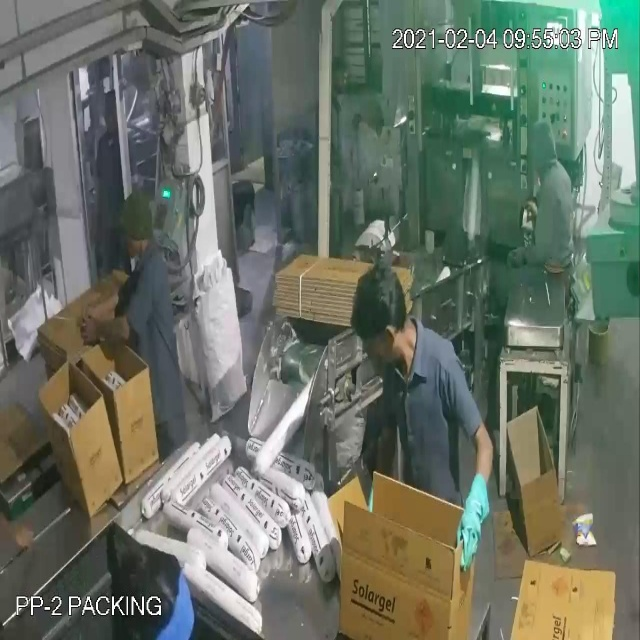Guantes: (452, 463, 488, 582)
Sin_guantes: (79, 298, 135, 356)
